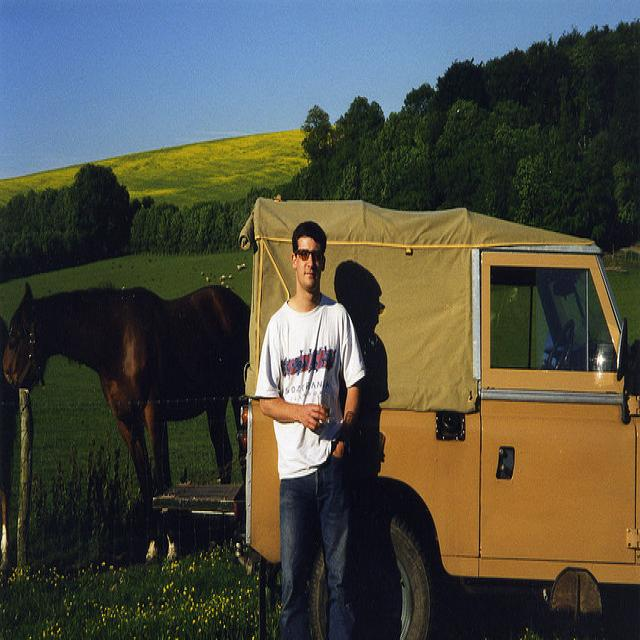Vehicle: (237, 195, 639, 632)
